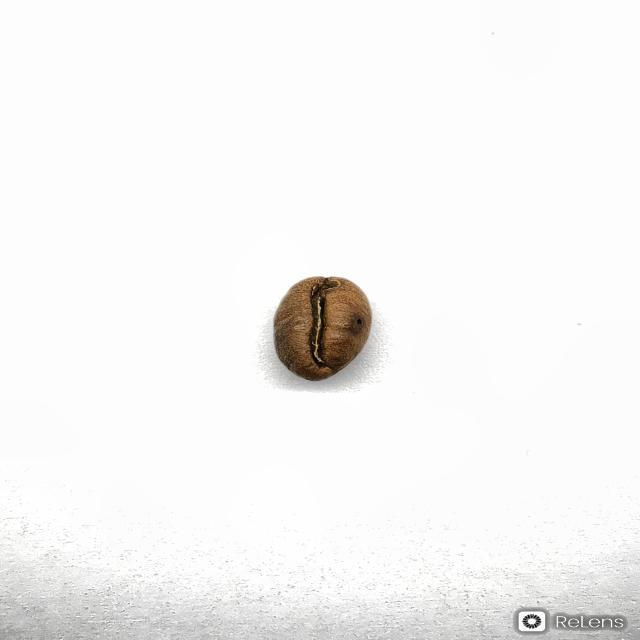Insect damage: (272, 275, 373, 381)
